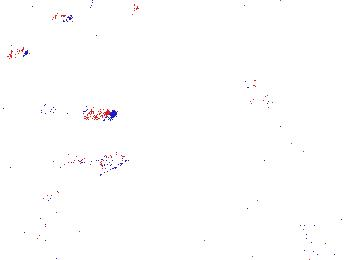glassfish: (37, 148, 129, 184)
red belly glassfish: (224, 84, 272, 111), (55, 105, 118, 125), (1, 45, 31, 61), (44, 11, 76, 26)
